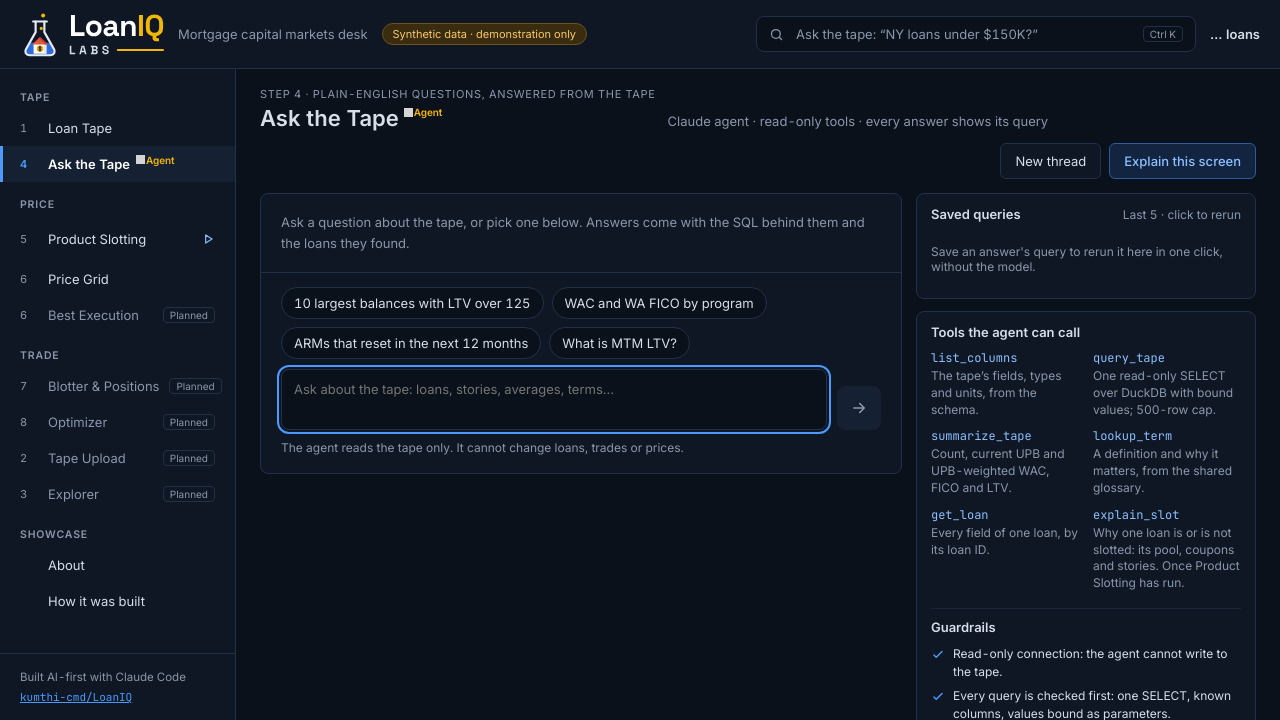
Test: Ask the Tape › streams the tool chips, the answer and the rows behind it
Expected: the heading "Ask the Tape" is shown, [260,105,399,131]
Type "Loans over 125 LTV?" into the text box named "Ask the tape" at (554, 399), box [281,369,827,430]
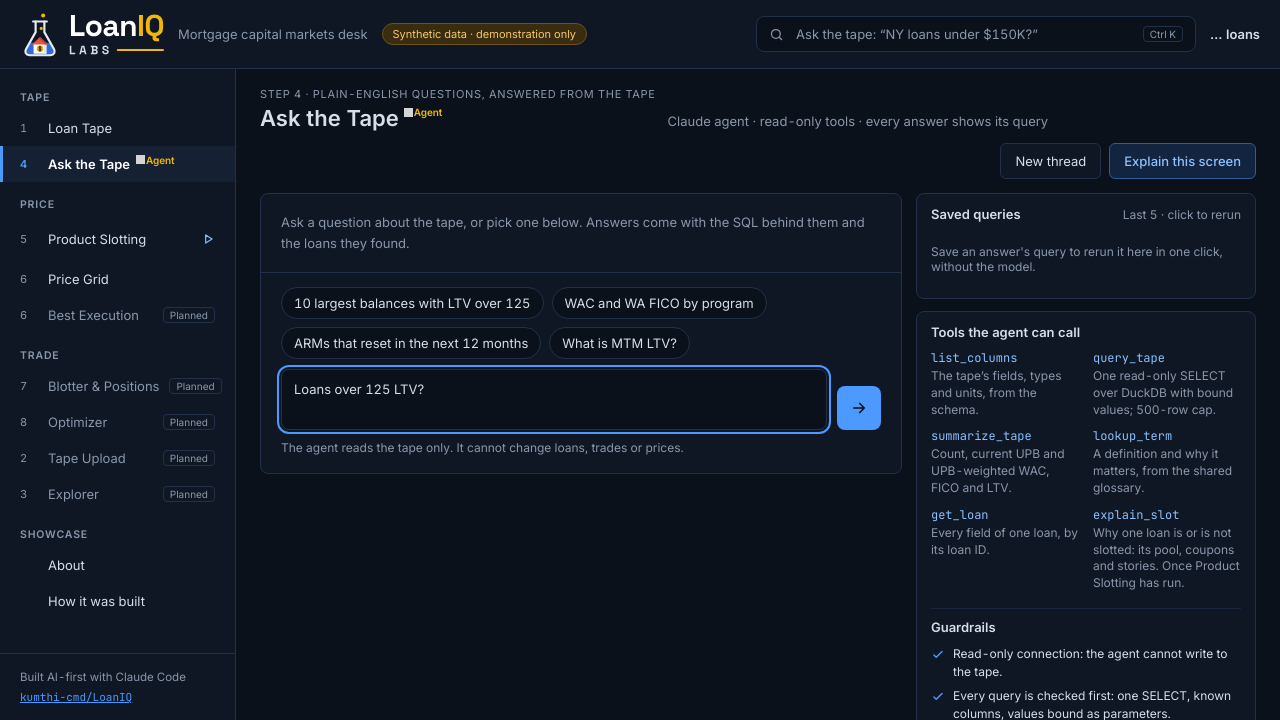
Click the button named "Send question" at (859, 408), box [837,386,881,430]
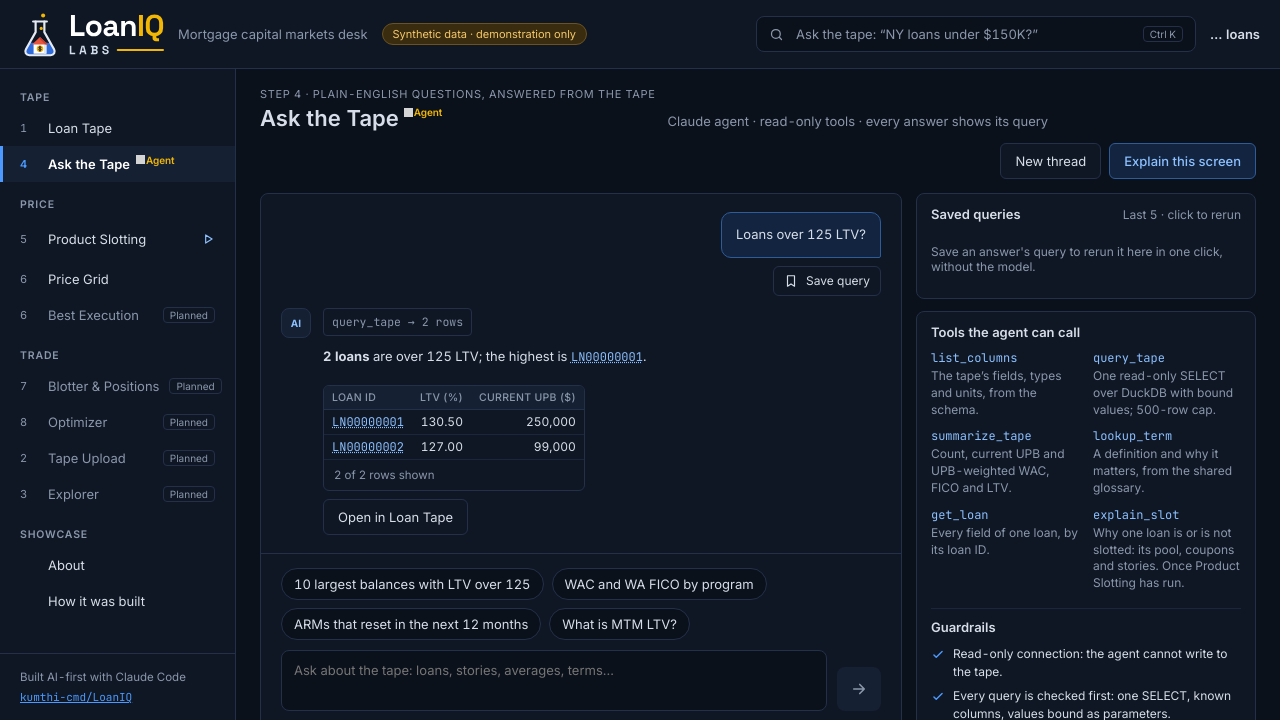
Expected: the button "query_tape → 2 rows" is shown, [323,308,472,336]
Expected: the column heading "LTV (%)" is shown, [412,386,471,409]
Expected: the text "2 of 2 rows shown" is shown, [334,468,434,482]
